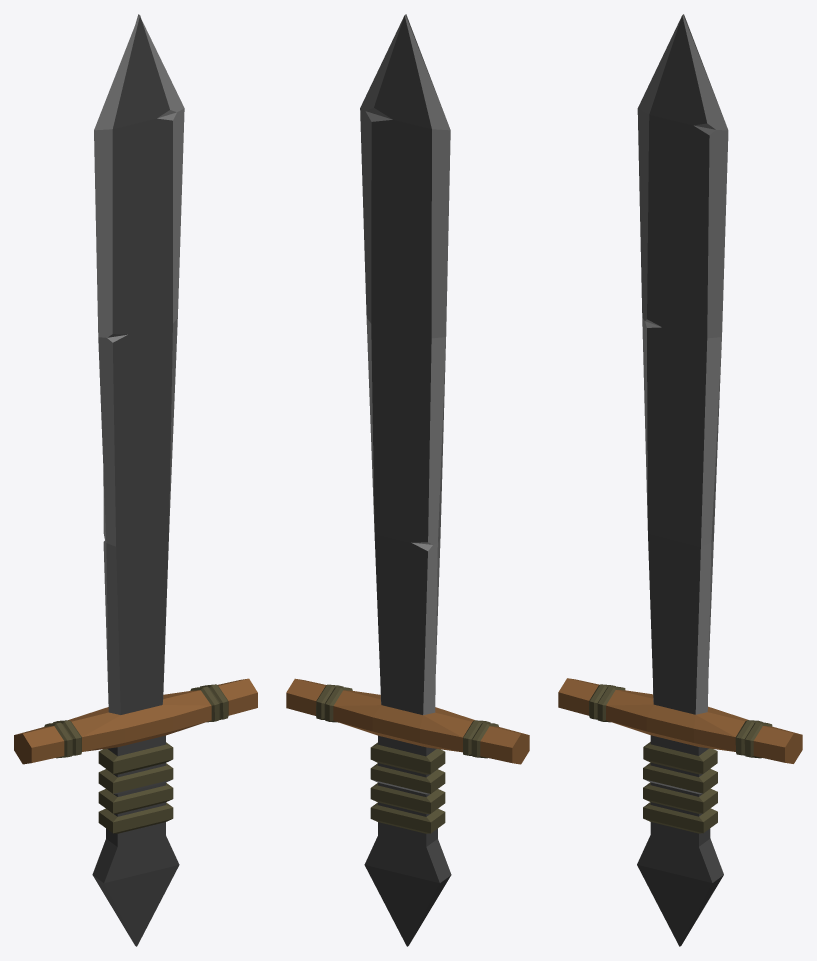
The model's file is Primitive_Sword.fbx.
3 renders of one model, left to right at view 1: azimuth 30°, elevation 25°; view 2: azimuth 150°, elevation 25°; view 3: azimuth 330°, elevation 25°, orthographic.
Parts seen in each view (by area): view 1: Primitive_Sword; view 2: Primitive_Sword; view 3: Primitive_Sword.
Part boxes in pixels (left/top/right/bottom): Primitive_Sword: left=14, top=14, right=257, bottom=946; Primitive_Sword: left=286, top=14, right=529, bottom=946; Primitive_Sword: left=558, top=14, right=802, bottom=946.
Bounding box in the file's own units: 280 × 1099 × 49.99.
